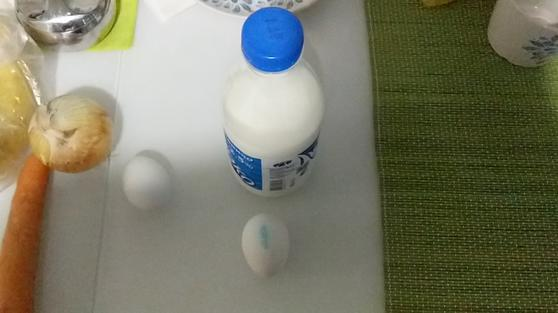carrot: (1, 150, 53, 313)
egg: (232, 210, 298, 284), (118, 148, 173, 215)
milk: (212, 2, 327, 206)
onion: (27, 85, 121, 175)
